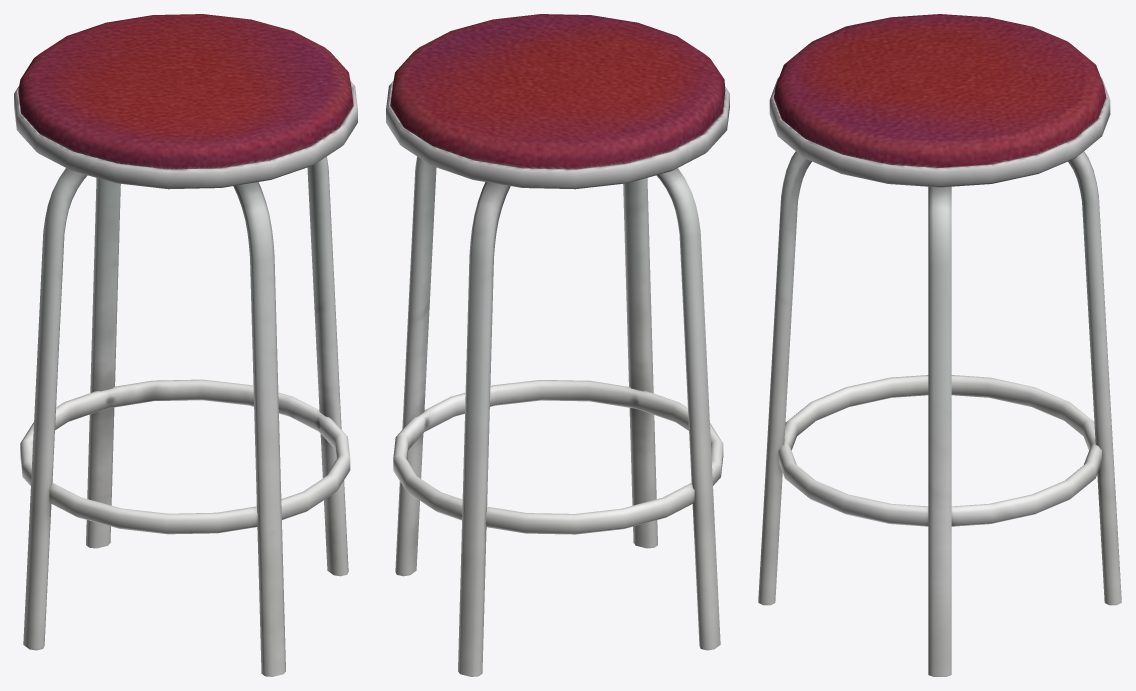
File: HospitalChair.FBX
The picture shows the model from 3 angles, left to right: view 1: azimuth 30°, elevation 25°; view 2: azimuth 150°, elevation 25°; view 3: azimuth 270°, elevation 25°; orthographic projection.
Parts seen in each view (by area): view 1: BacklessStool; view 2: BacklessStool; view 3: BacklessStool.
Part boxes in pixels (left/top/right/bottom): BacklessStool: left=14, top=14, right=357, bottom=676; BacklessStool: left=386, top=14, right=729, bottom=676; BacklessStool: left=758, top=14, right=1121, bottom=676.
Bounding box in the file's own units: 49.31 × 78.1 × 49.31.
